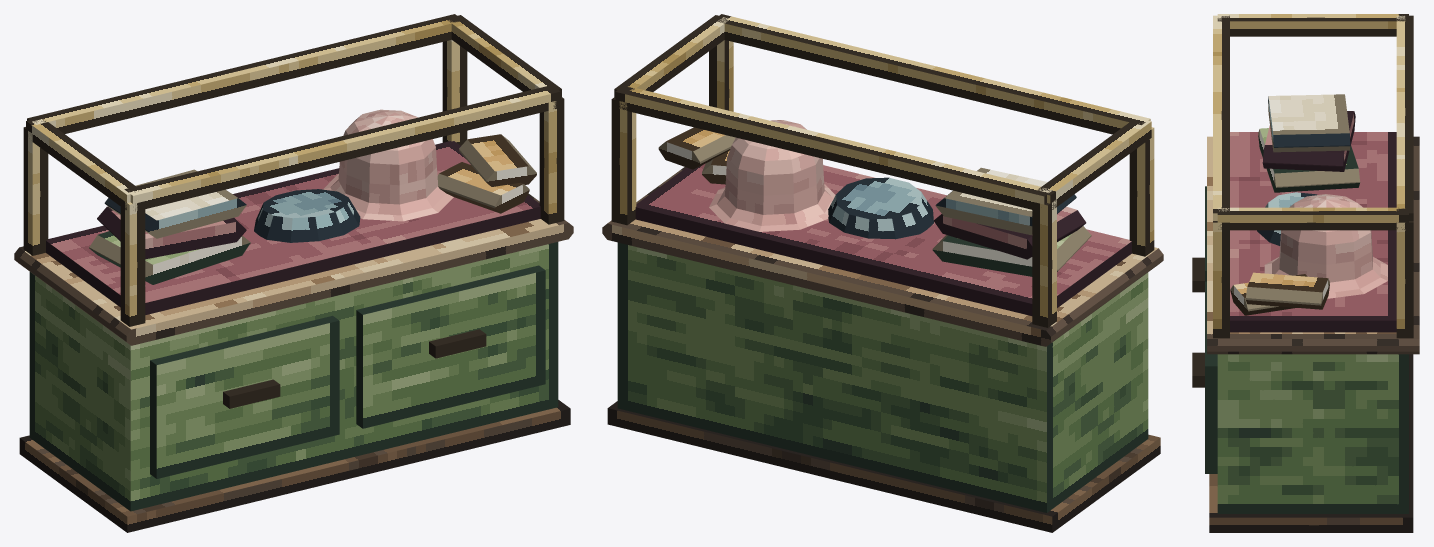
The model's file is case.glb.
3 views of the same model, side by side, from view 1: azimuth 30°, elevation 25°; view 2: azimuth 150°, elevation 25°; view 3: azimuth 270°, elevation 25° (orthographic). The views are drawn at different scales.
Parts seen in each view (by area): view 1: cabinet, drawer_r, drawer_l, velvet, ledge, plinth, frame_f, frame_b, c_cloche, c_beret, c_scarf_c, cpost_2 (+11 smaller); view 2: cabinet, velvet, ledge, plinth, frame_b, frame_f, c_cloche, c_beret, frame_l, cpost_0, cpost_1, c_scarf_c (+6 smaller); view 3: cabinet, velvet, ledge, c_cloche, plinth, c_scarf_c, frame_r, frame_l, frame_b, frame_f, c_mitten_b, c_scarf_a (+8 smaller).
Part boxes in pixels (x1,y1,x2,y2): cabinet: [29, 242, 558, 511]; drawer_r: [356, 265, 545, 428]; drawer_l: [150, 315, 339, 478]; velvet: [46, 141, 540, 314]; ledge: [14, 193, 573, 345]; plinth: [19, 400, 570, 532]; frame_f: [124, 85, 560, 211]; frame_b: [27, 14, 463, 133]; c_cloche: [323, 109, 453, 221]; c_beret: [254, 189, 360, 242]; c_scarf_c: [104, 169, 246, 238]; cpost_2: [120, 199, 145, 326]; cabinet: [617, 242, 1148, 512]; velvet: [635, 163, 1131, 315]; ledge: [602, 167, 1163, 346]; plinth: [607, 401, 1160, 532]; frame_b: [615, 85, 1052, 209]; frame_f: [713, 14, 1150, 134]; c_cloche: [709, 120, 835, 231]; c_beret: [828, 177, 933, 239]; frame_l: [1035, 120, 1151, 209]; cpost_0: [1032, 199, 1056, 327]; cpost_1: [611, 97, 636, 225]; c_scarf_c: [935, 167, 1076, 235]; cabinet: [1217, 354, 1408, 513]; velvet: [1230, 132, 1396, 332]; ledge: [1207, 136, 1419, 354]; c_cloche: [1264, 194, 1387, 298]; plinth: [1209, 354, 1413, 532]; c_scarf_c: [1268, 94, 1350, 152]; frame_r: [1217, 207, 1408, 230]; frame_l: [1217, 14, 1408, 36]; frame_b: [1396, 15, 1413, 220]; frame_f: [1213, 15, 1229, 220]; c_mitten_b: [1245, 272, 1329, 309]; c_scarf_a: [1258, 128, 1360, 192].
Size of the model in its own units: 23 by 16.4 by 10.7.
1 material, 1 textured.
